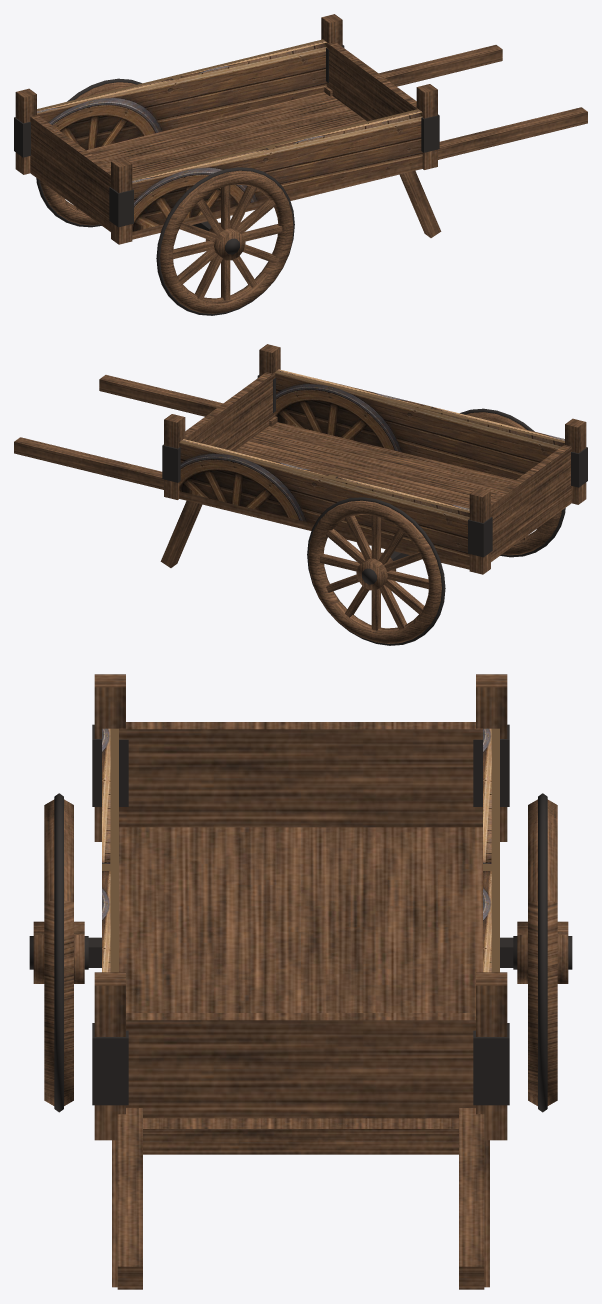
Rendered from handcart.glb.
3 views of the same model, one above another, from view 1: azimuth 30°, elevation 25°; view 2: azimuth 150°, elevation 25°; view 3: azimuth 270°, elevation 25° (orthographic). The views are drawn at different scales.
Visible parts, largest first — view 1: handcart; view 2: handcart; view 3: handcart.
Part boxes in pixels (x1,y1,x2,y2): handcart: (14,14,587,315); handcart: (14,344,587,645); handcart: (29,674,572,1289).
Bounding box in the file's own units: 1.93 × 0.636 × 0.954.
Materials: 4 (3 with a texture image).
